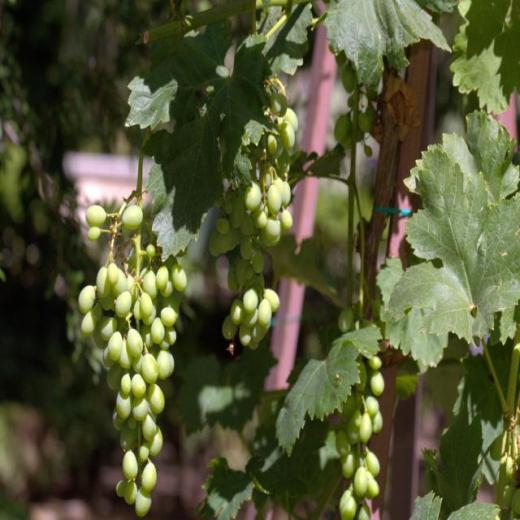Orange: (79, 204, 187, 520), (209, 92, 296, 352), (336, 356, 385, 520), (338, 306, 354, 334), (341, 61, 355, 93), (335, 113, 350, 142), (488, 434, 504, 461), (502, 482, 513, 506), (358, 114, 370, 132), (512, 489, 520, 514), (365, 143, 374, 159)
